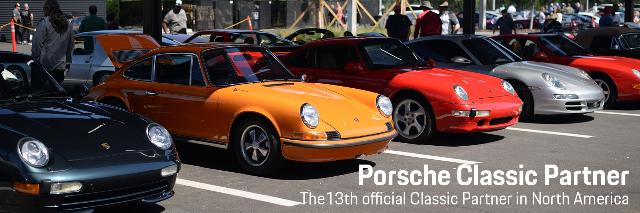porsche: (82, 42, 398, 174), (0, 51, 182, 213), (279, 36, 523, 144), (404, 34, 606, 122), (490, 34, 640, 108)
